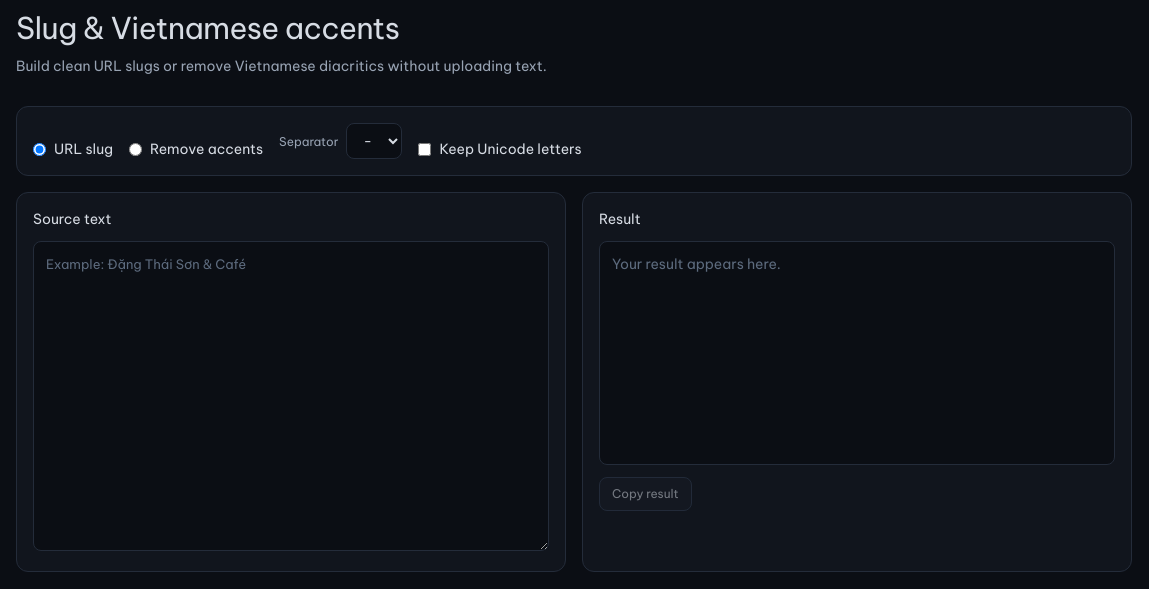
Scenario: Slug & Vietnamese Accents tool › can remove accents without changing punctuation
Type "Đặng Thái Sơn — SỐ 2" into the text box named "Source text" at (291, 396), box [33, 241, 549, 551]
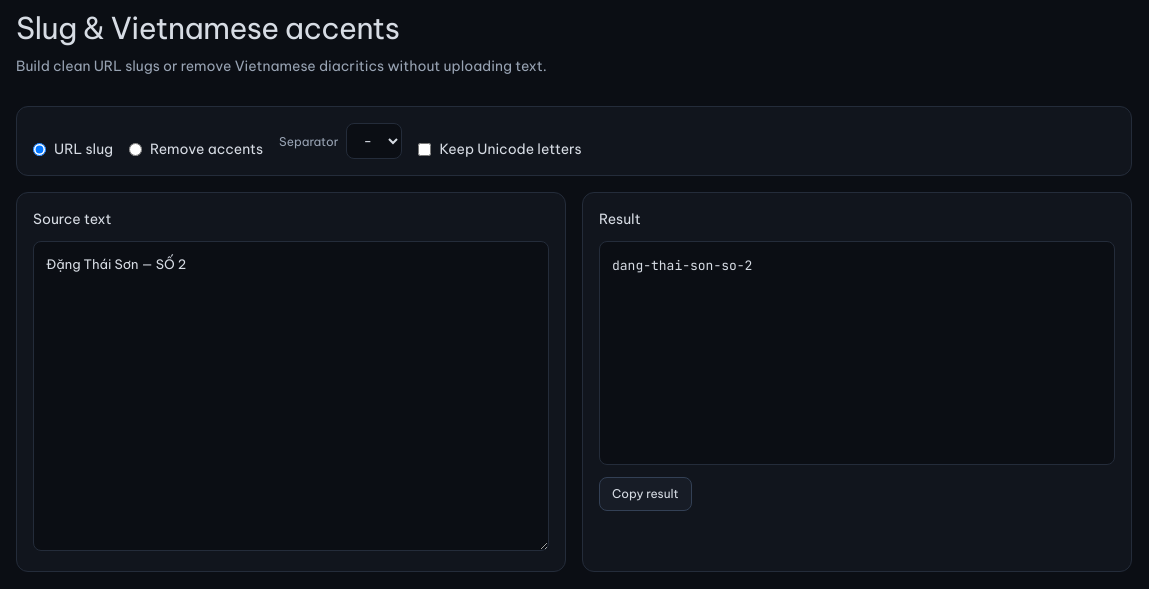
Click the radio button labelled "Remove accents" at (136, 149), box [129, 142, 142, 156]
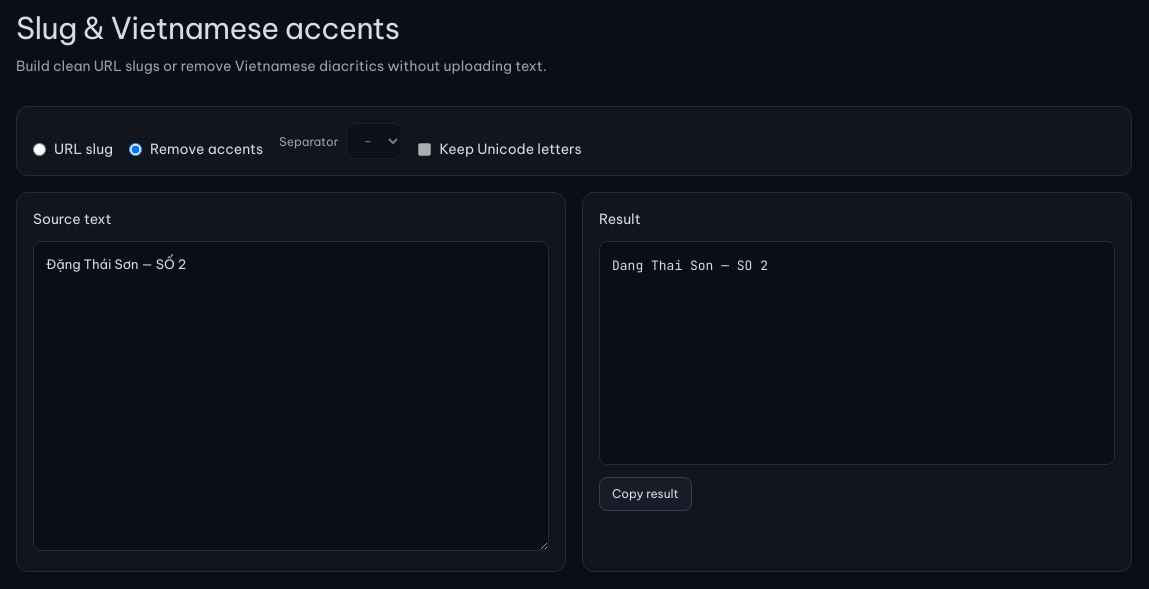
Check: the element named "Result" reads "Dang Thai Son — SO 2", box [612, 257, 768, 274]
